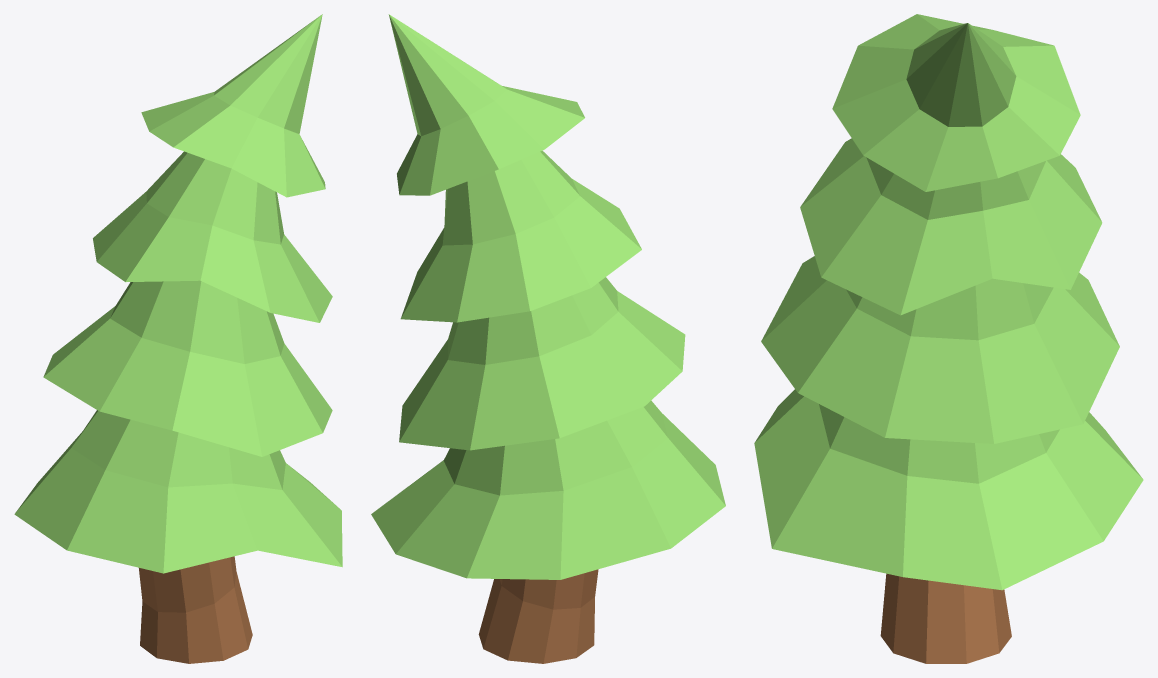
The model's file is Tree2Rot.fbx.
3 views of the same model, side by side, from view 1: azimuth 30°, elevation 25°; view 2: azimuth 150°, elevation 25°; view 3: azimuth 270°, elevation 25° (orthographic). The views are drawn at different scales.
Parts seen in each view (by area): view 1: Tree2Rot; view 2: Tree2Rot; view 3: Tree2Rot.
Part boxes in pixels (x1,y1,x2,y2): Tree2Rot: (14,14,342,663); Tree2Rot: (371,14,725,663); Tree2Rot: (754,14,1143,663).
Size of the model in its own units: 363 by 689 by 351.
